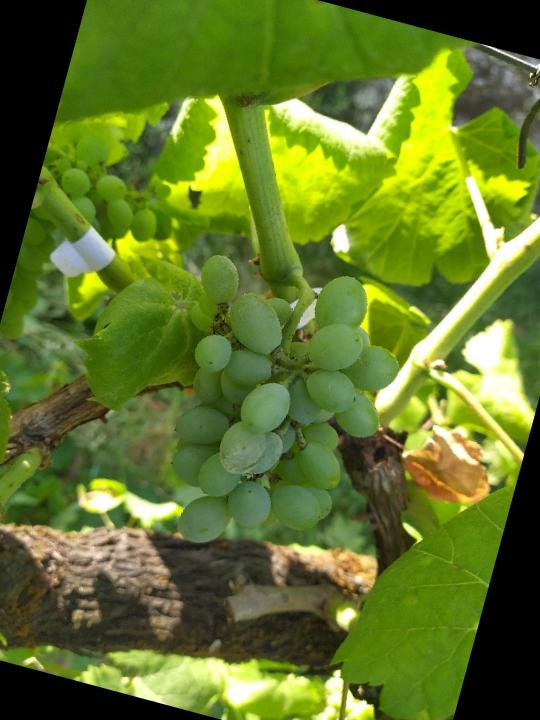grape: (128, 237, 422, 588)
